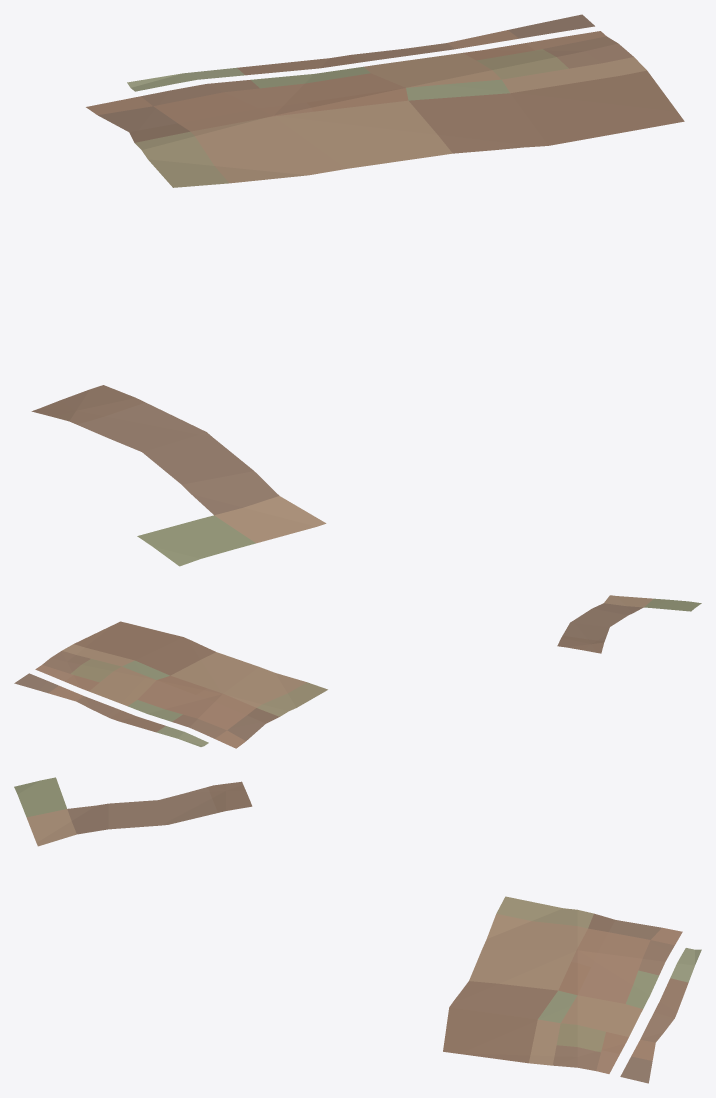
File: farm_15_4_soil.glb
3 renders of one model, top to bottom at view 1: azimuth 30°, elevation 25°; view 2: azimuth 150°, elevation 25°; view 3: azimuth 270°, elevation 25°, orthographic. The views are drawn at different scales.
Parts seen in each view (by area): view 1: geometry_0; view 2: geometry_0; view 3: geometry_0.
Part boxes in pixels (box(x1,y1,x2,y2)): geometry_0: box(31, 14, 684, 566); geometry_0: box(14, 595, 701, 748); geometry_0: box(14, 777, 701, 1083).
Size of the model in its own units: 462 by 23.29 by 469.
